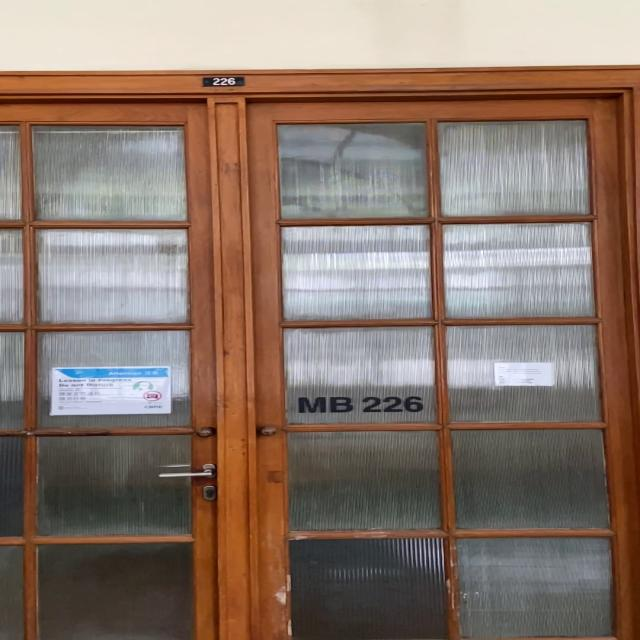room226: (205, 74, 252, 87)
room226Window: (296, 394, 428, 416)
